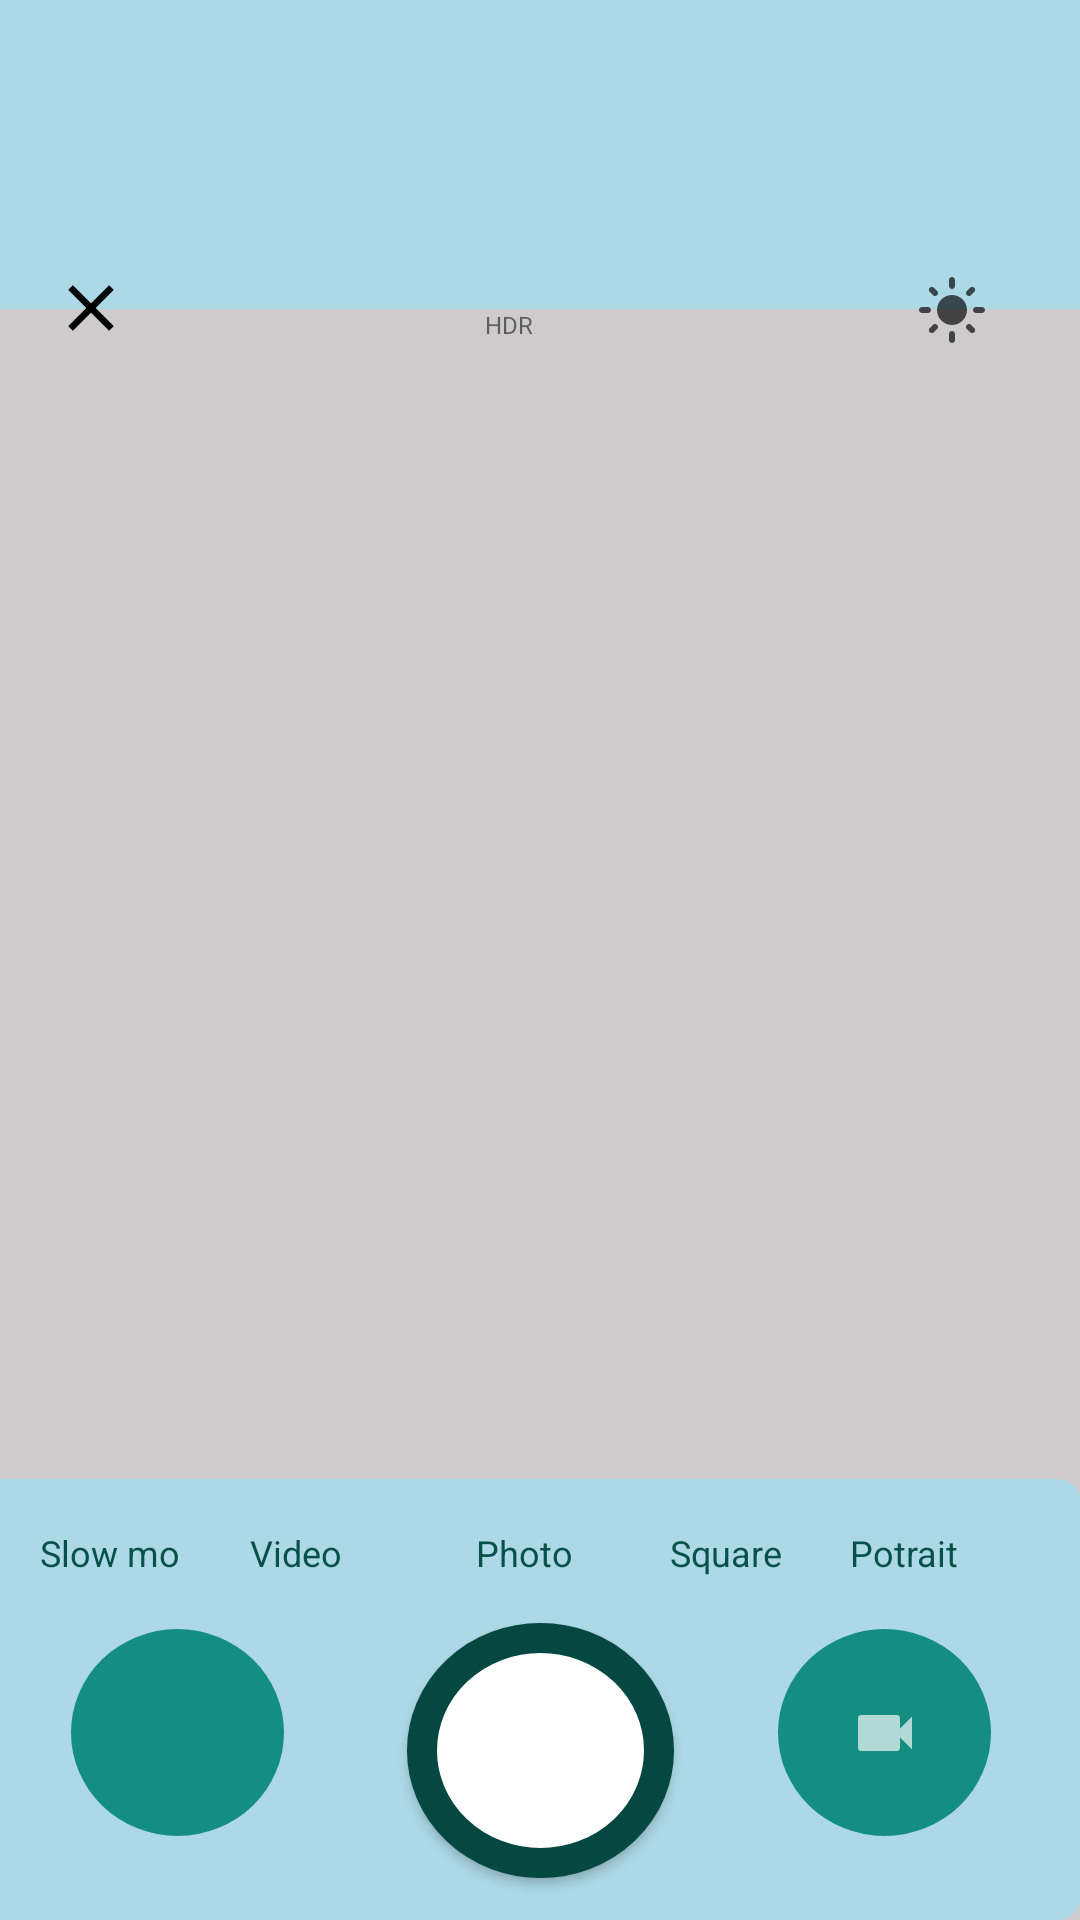

Point at icon controls on the screen. Image size 1080×1920, points as (x,y).
camerabutton: (540,1750)
clear: (90,308)
videocam: (884,1732)
